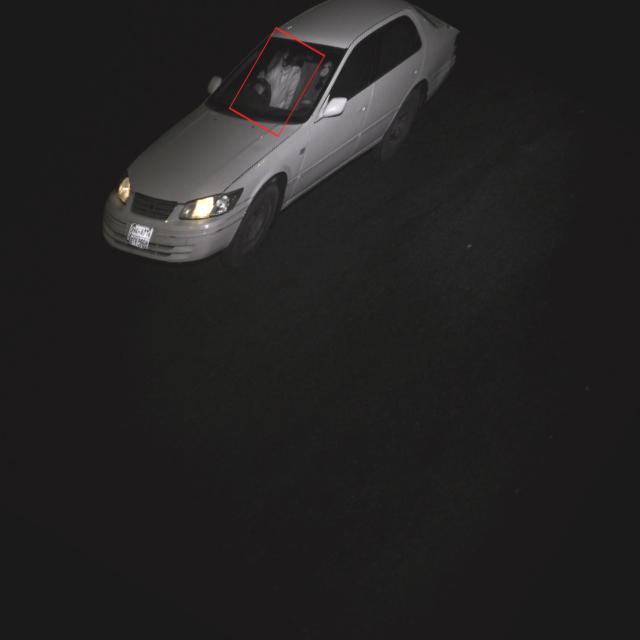windshield: (195, 21, 356, 138)
